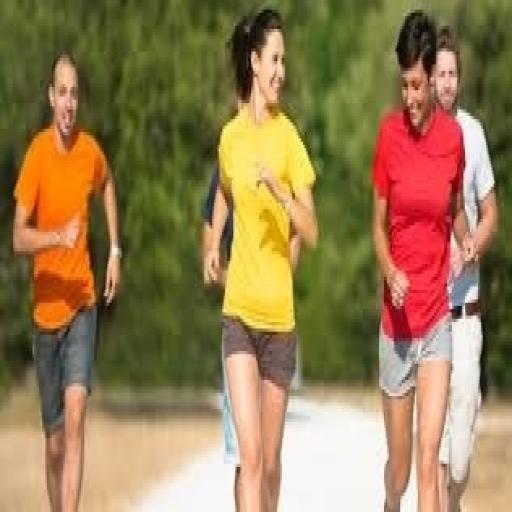running: (204, 6, 321, 509), (10, 48, 124, 509), (370, 6, 472, 509), (431, 22, 501, 508)
